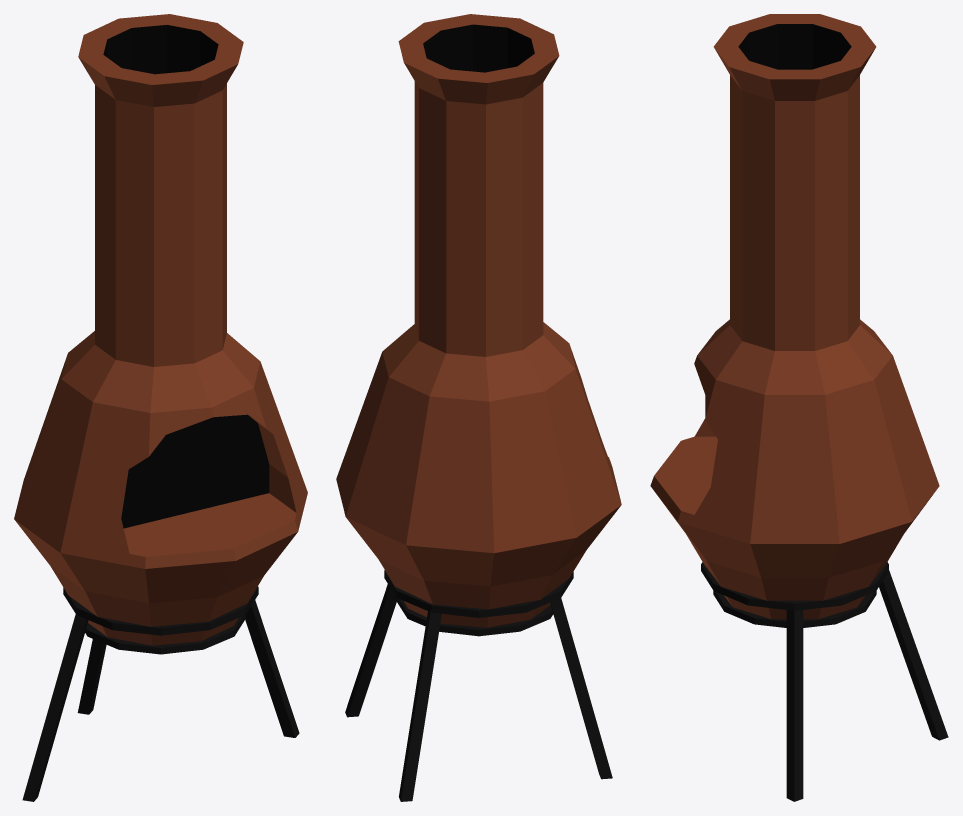
Rendered from Chiminea.glb.
3 renders of one model, left to right at view 1: azimuth 30°, elevation 25°; view 2: azimuth 150°, elevation 25°; view 3: azimuth 270°, elevation 25°, orthographic. The views are drawn at different scales.
Visible parts, largest first — view 1: Chiminea1; view 2: Chiminea1; view 3: Chiminea1.
Part boxes in pixels (x1,y1,x2,y2): Chiminea1: (14, 14, 307, 801); Chiminea1: (336, 14, 621, 801); Chiminea1: (650, 14, 948, 801).
Size of the model in its own units: 1.19 by 2.96 by 1.16.
